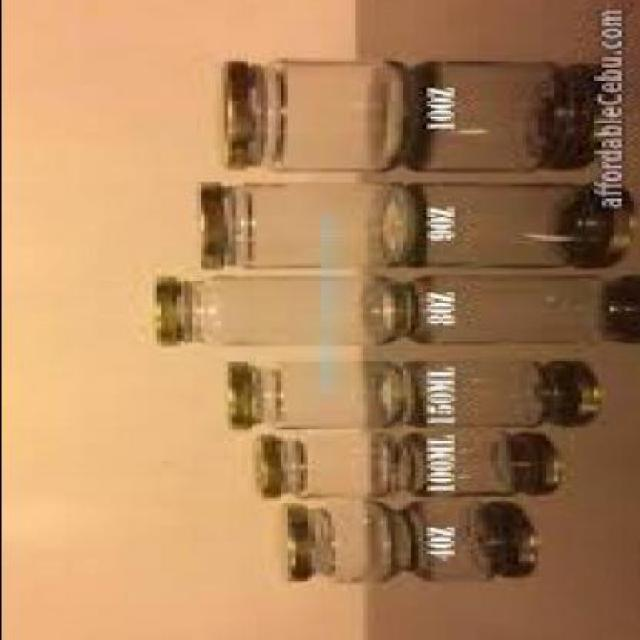GLASS: (246, 61, 406, 174), (222, 184, 413, 271), (170, 278, 402, 349), (250, 360, 405, 434), (306, 503, 402, 585), (275, 438, 390, 499)
METAL: (215, 64, 258, 171), (274, 506, 311, 582), (188, 184, 218, 271), (148, 278, 178, 348), (250, 439, 275, 501), (219, 365, 243, 429)
